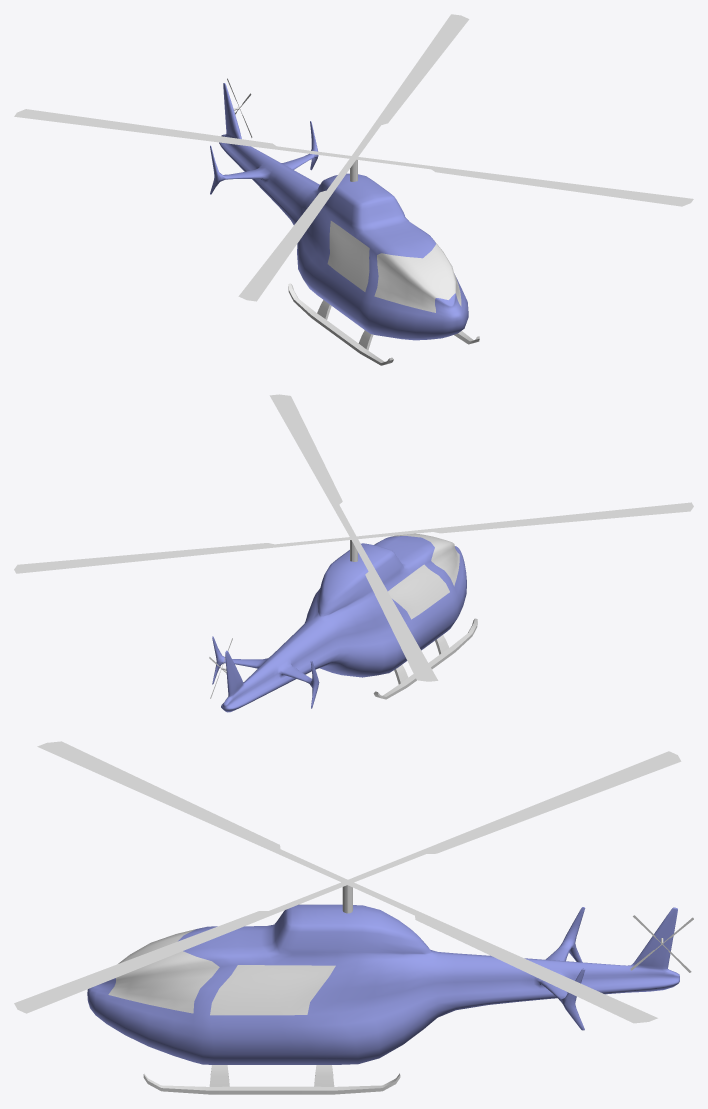
The model's file is Helicoptero.fbx.
The picture shows the model from 3 angles, top to bottom: view 1: azimuth 30°, elevation 25°; view 2: azimuth 150°, elevation 25°; view 3: azimuth 270°, elevation 25°; orthographic projection. The views are drawn at different scales.
Visible parts, largest first — view 1: Helicotero, helices, base; view 2: Helicotero, helices, base; view 3: Helicotero, helices, base.
Boxes of the visible parts, box(x1,y1,x2,y2) form: Helicotero: box(210, 83, 468, 340); helices: box(14, 14, 693, 301); base: box(288, 283, 479, 365); Helicotero: box(212, 533, 466, 712); helices: box(14, 394, 693, 681); base: box(305, 618, 477, 699); Helicotero: box(87, 904, 679, 1064); helices: box(14, 741, 681, 1023); base: box(143, 1065, 400, 1094).
Size of the model in its own units: 12.85 by 3.87 by 13.09.
